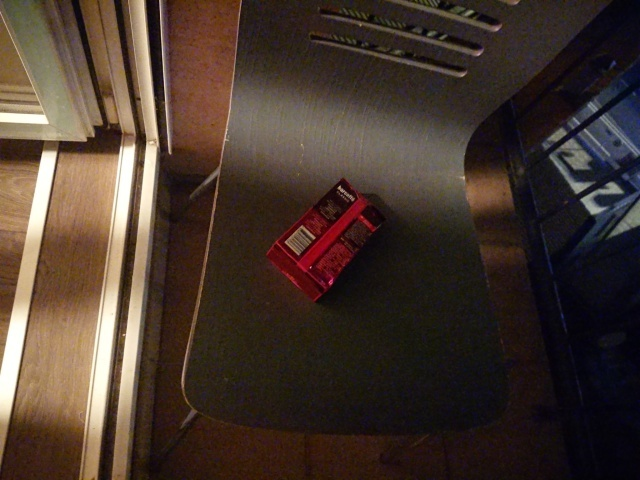Barcaffe Classic Original 225g: (264, 177, 389, 303)
